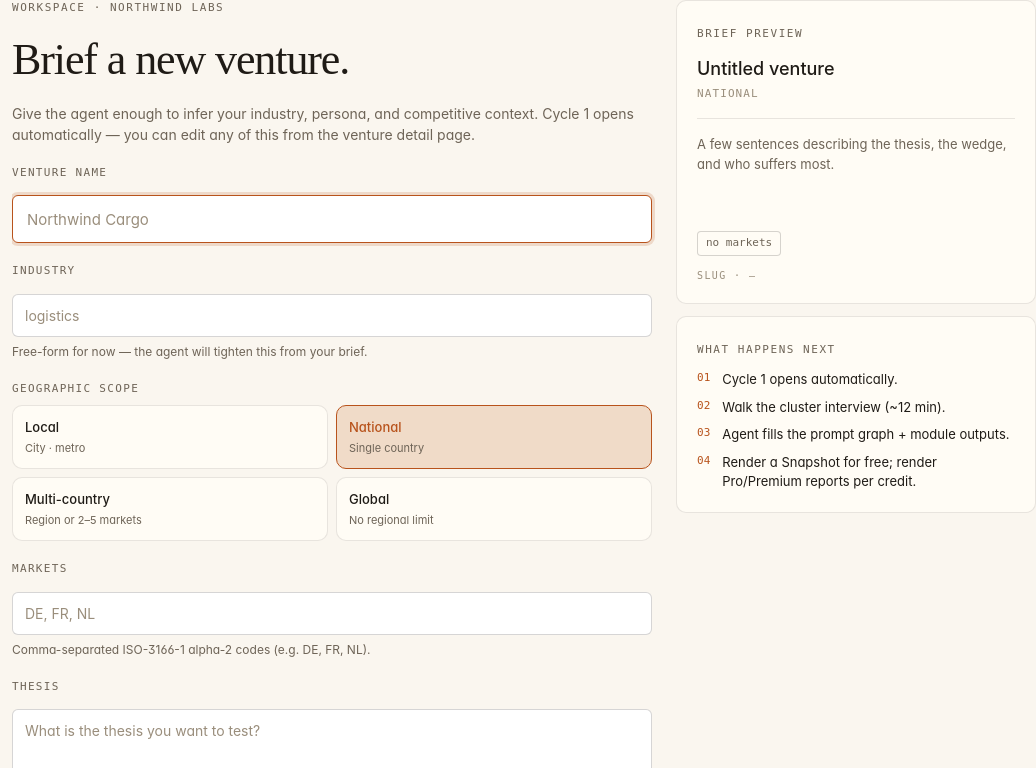
Test: phase 06 · first-run journey › VentureNew submits the right payload to /v1/ventures
In the field labelled "Venture name": (332, 219) [12,195,652,243], type "Polaris"
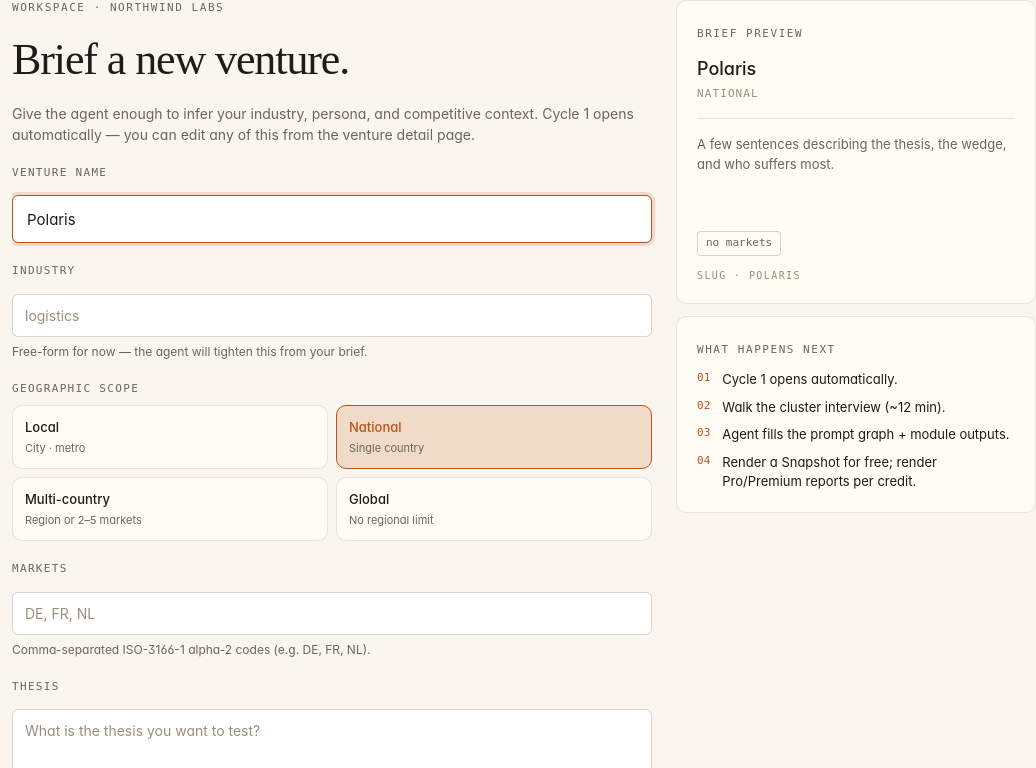
In the field labelled "Industry": (332, 315) [12,294,652,337], type "fintech"
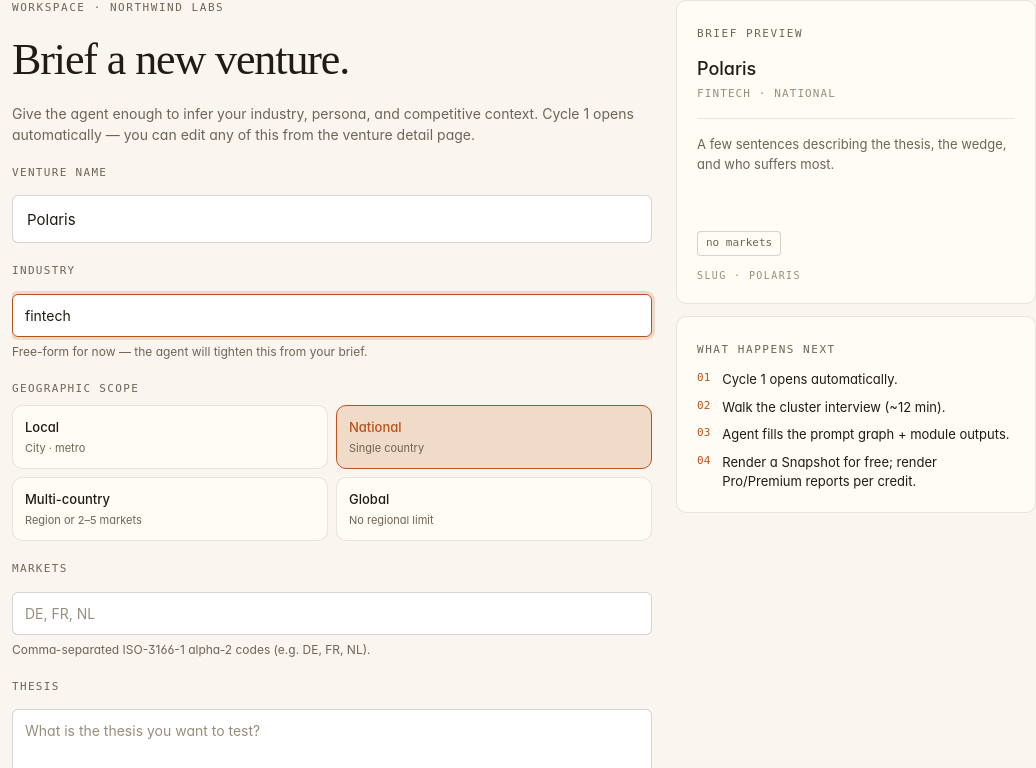
In the field labelled "Markets": (332, 613) [12,592,652,635], type "GB, US"
(page scrolled)
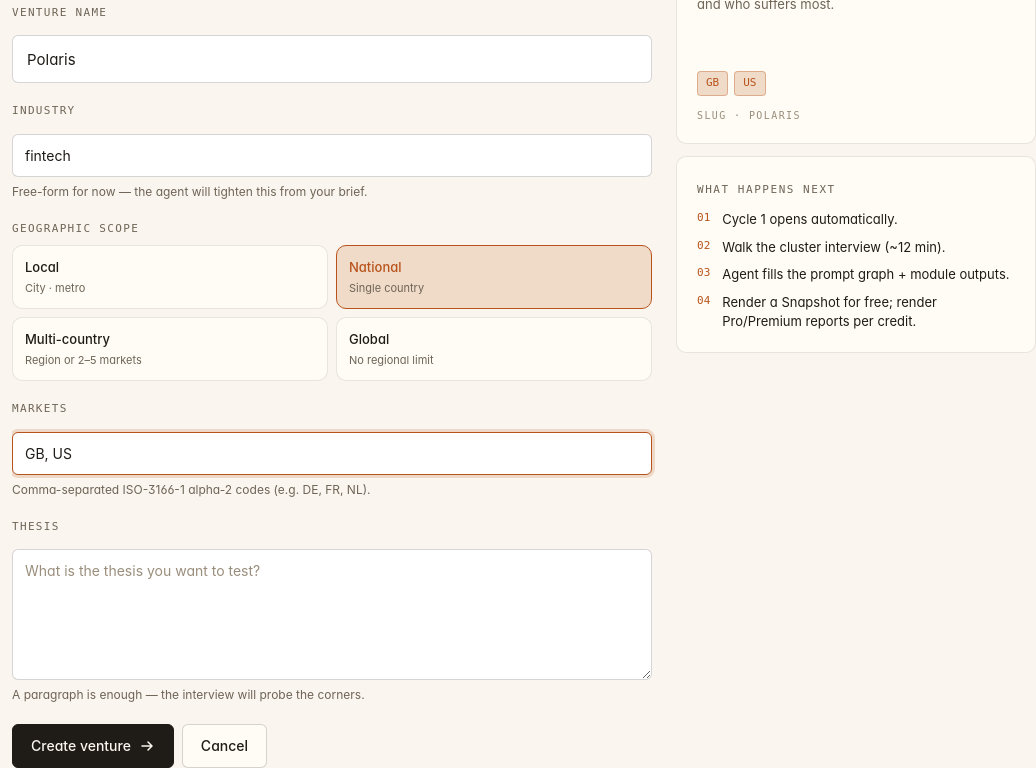
In the text box labelled "Thesis": (332, 614) [12,549,652,680], type "Embedded trade finance for small exporters."
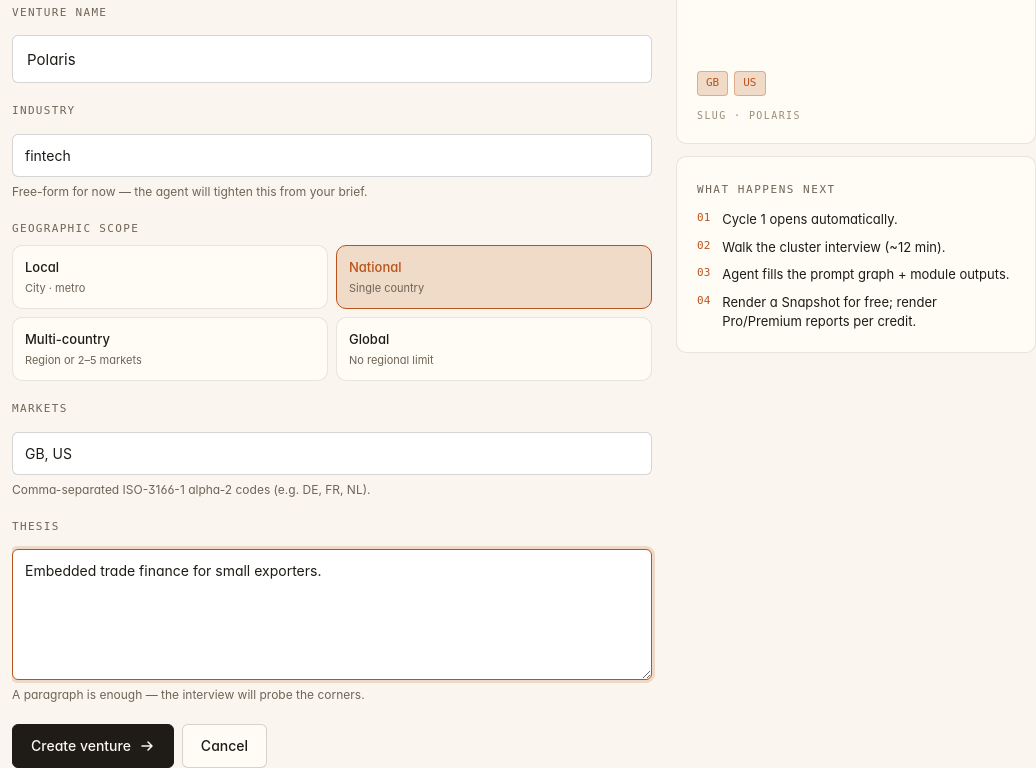
Click the button "Create venture": click(93, 746) [12,724,174,767]
(page scrolled)
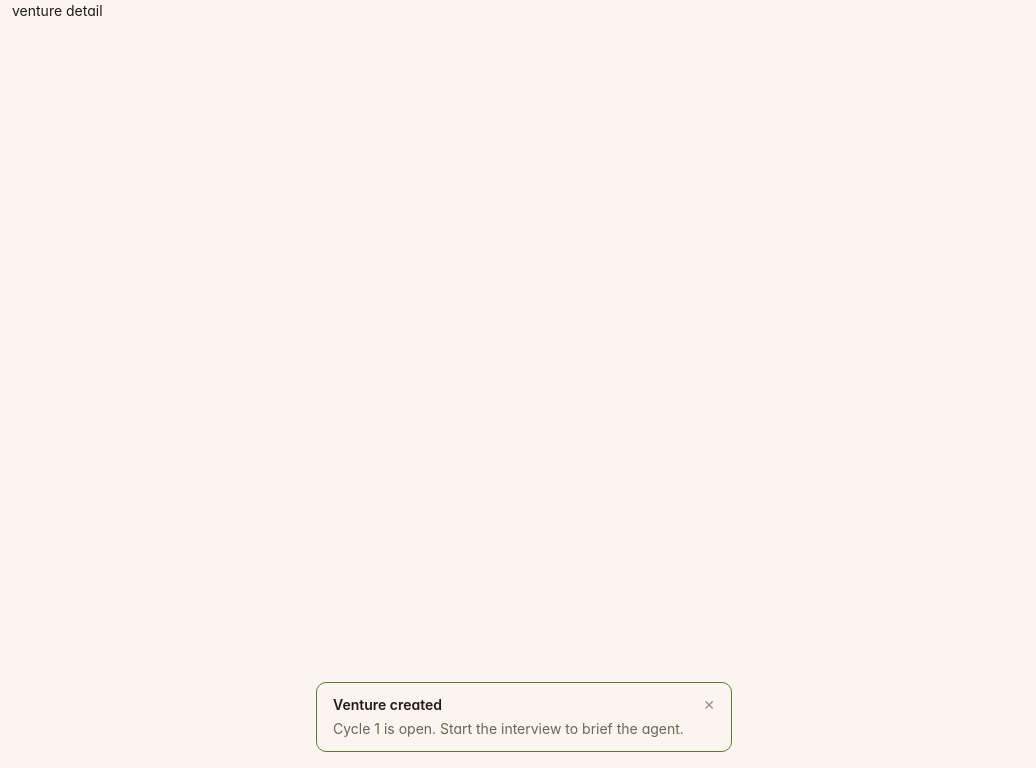
Result: the text "venture detail" is shown at [12,2,103,19]
